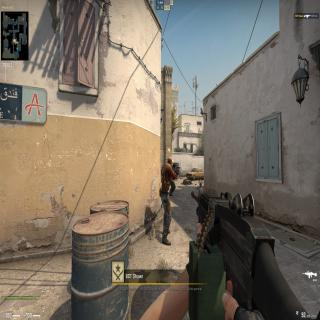T-Head: (167, 157, 172, 167)
